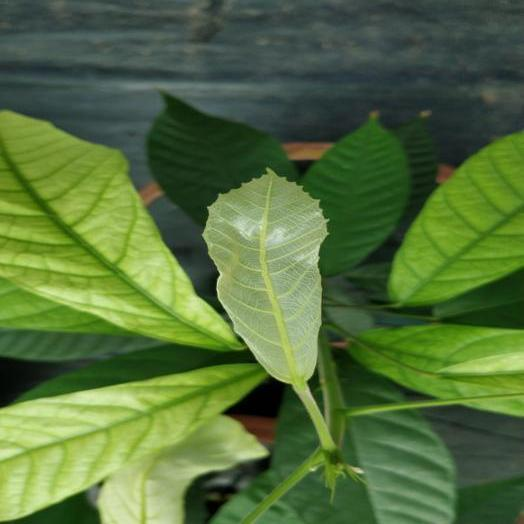Healthy Leaf: (147, 92, 298, 225), (285, 409, 460, 523), (301, 114, 409, 276), (394, 112, 436, 221)
Iron: (0, 112, 239, 348), (0, 364, 263, 521), (203, 170, 326, 385), (390, 132, 523, 304), (97, 415, 267, 523), (348, 323, 523, 416)
